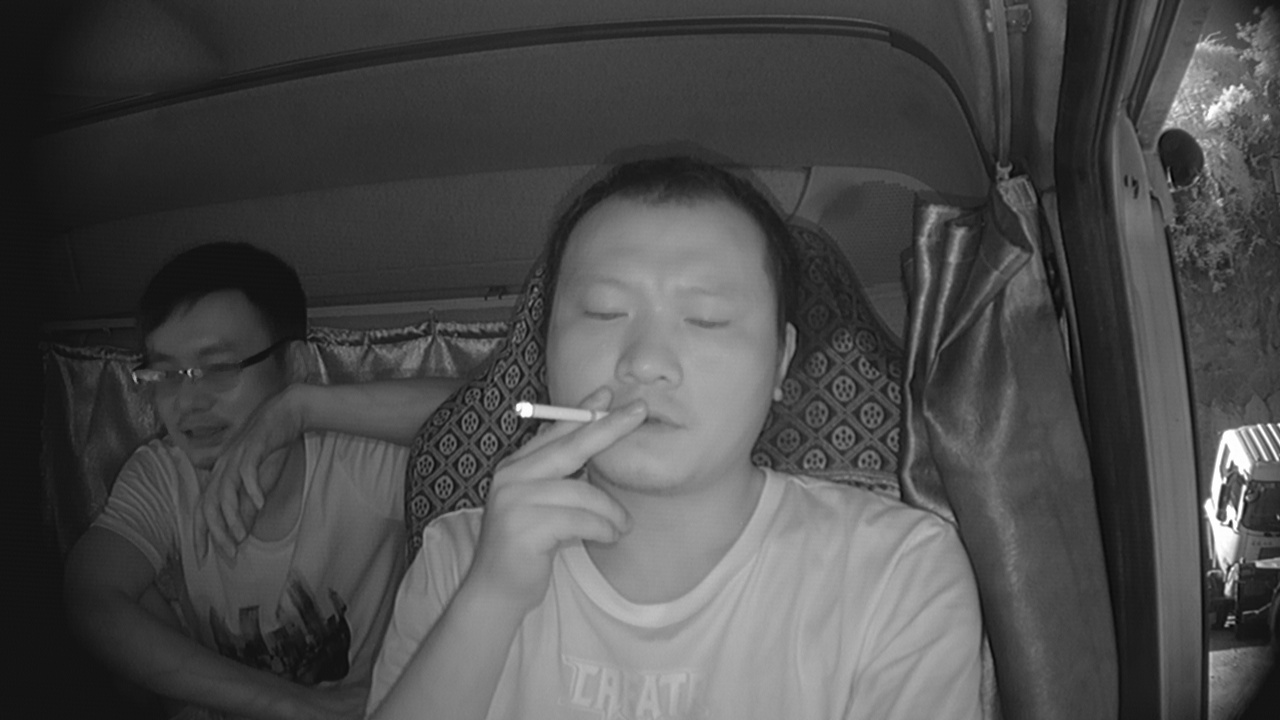hand: (514, 399, 645, 568)
